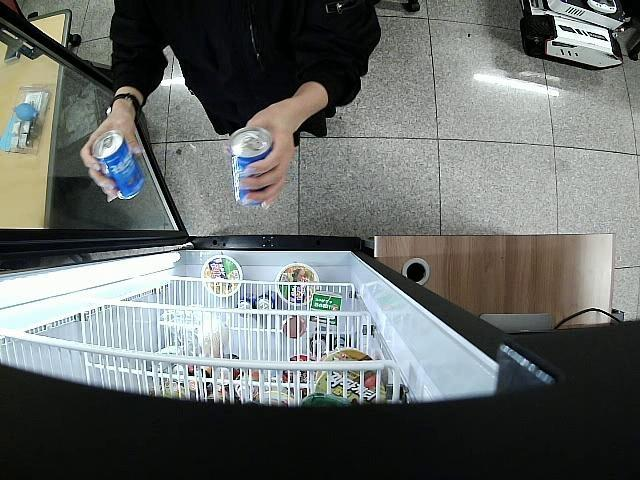15_letsbe: (89, 132, 144, 200), (230, 126, 274, 207)
